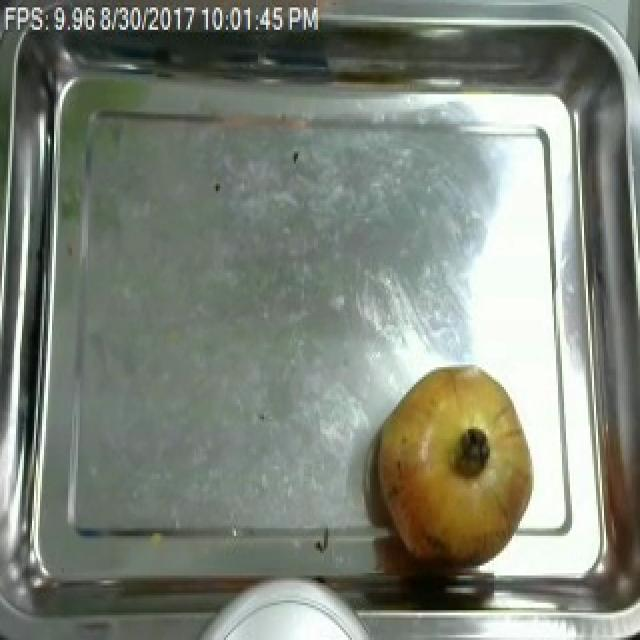fruit: (366, 342, 540, 578)
